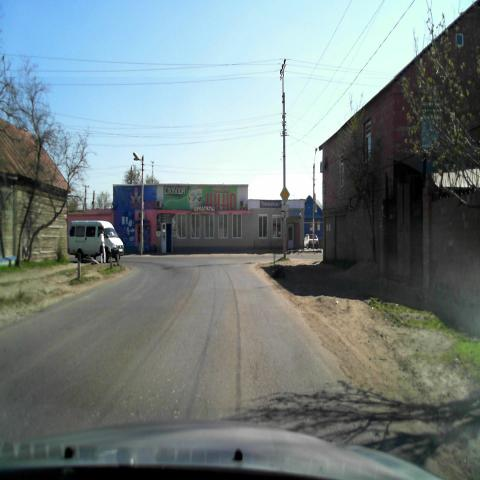2_1: (280, 186, 290, 204)
8_13: (281, 204, 289, 218)
